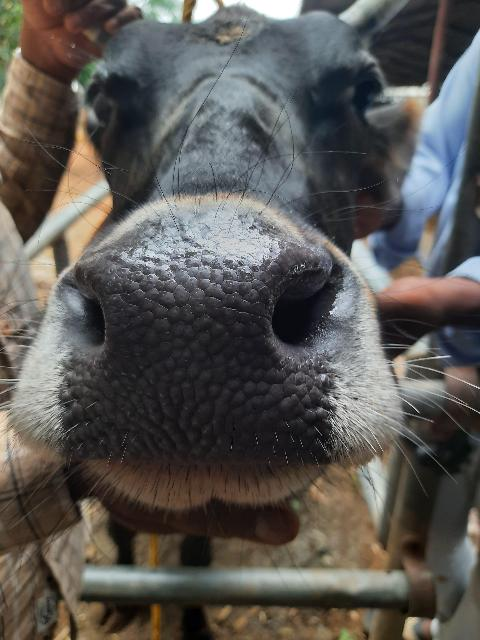Muzzle: (107, 247, 266, 465)
